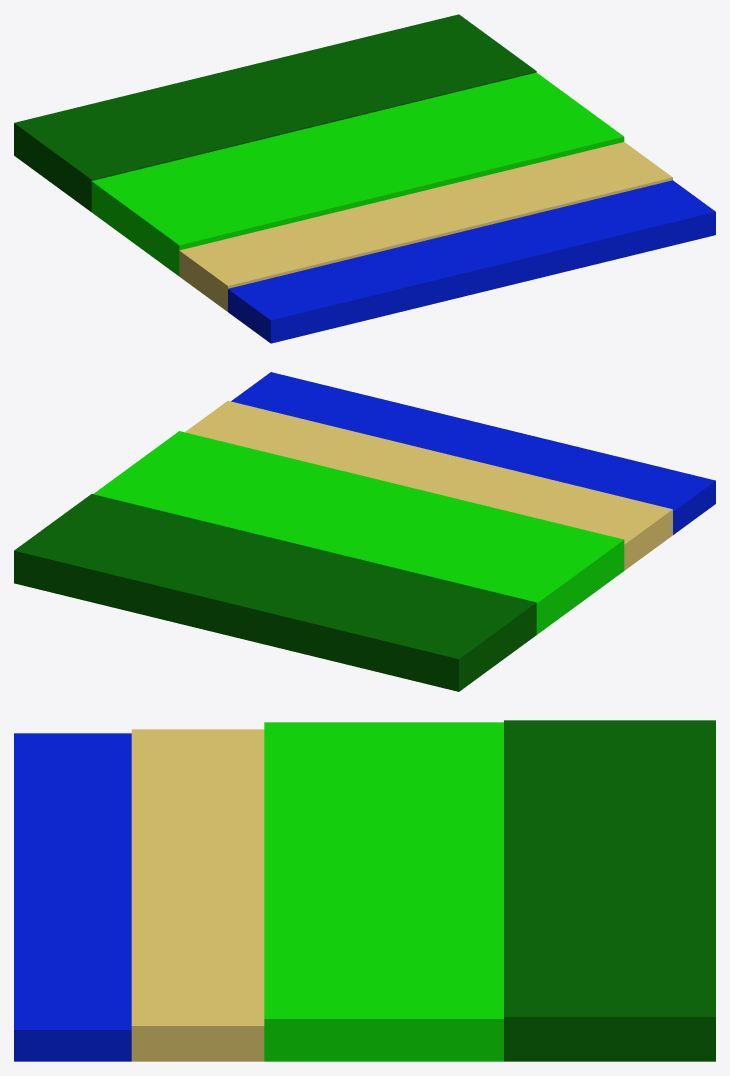
The model's file is land.glb.
The picture shows the model from 3 angles, top to bottom: view 1: azimuth 30°, elevation 25°; view 2: azimuth 150°, elevation 25°; view 3: azimuth 270°, elevation 25°; orthographic projection. The views are drawn at different scales.
Visible parts, largest first — view 1: Cube; view 2: Cube; view 3: Cube.
Boxes of the visible parts, <box> form: Cube: <box>14,14,715,343</box>; Cube: <box>14,372,715,691</box>; Cube: <box>14,720,715,1061</box>.
Bounding box in the file's own units: 40 × 2.81 × 40.
